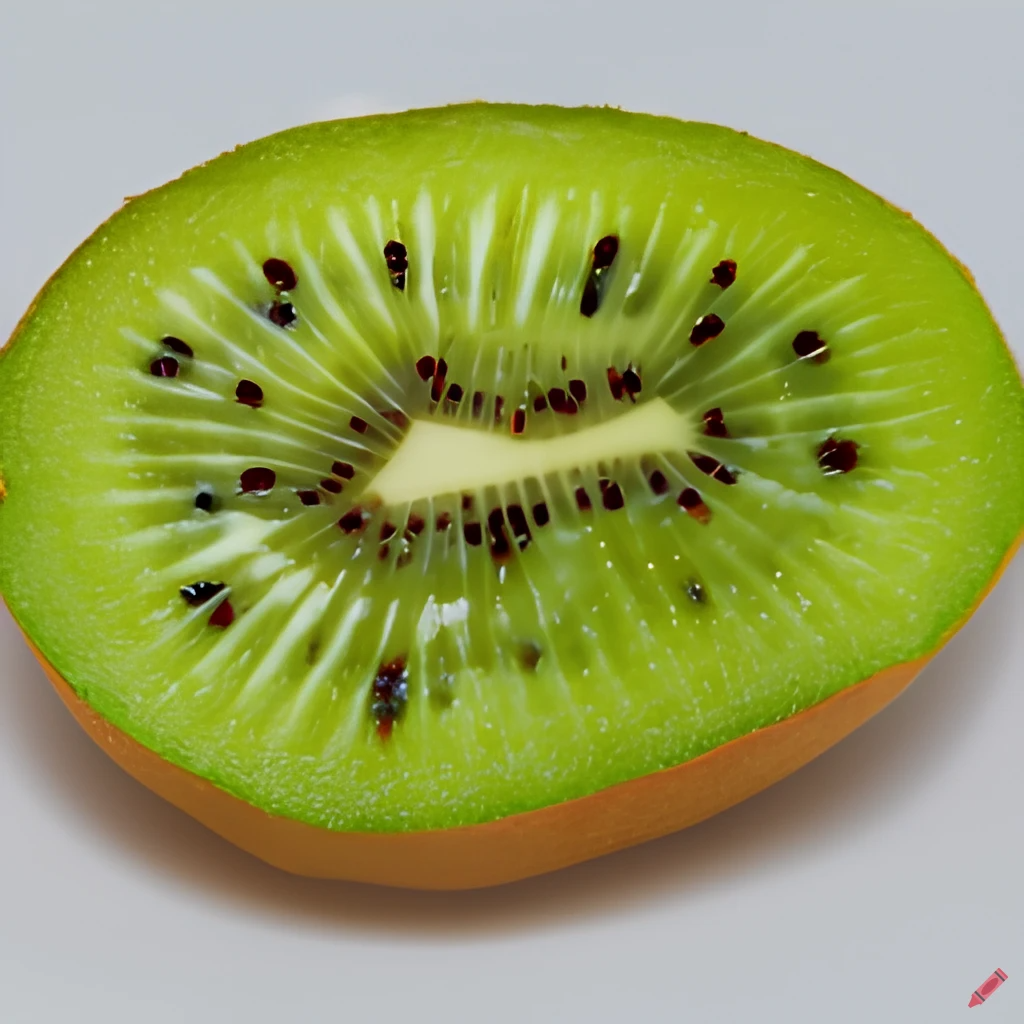Kiwi: (0, 94, 1022, 890)
